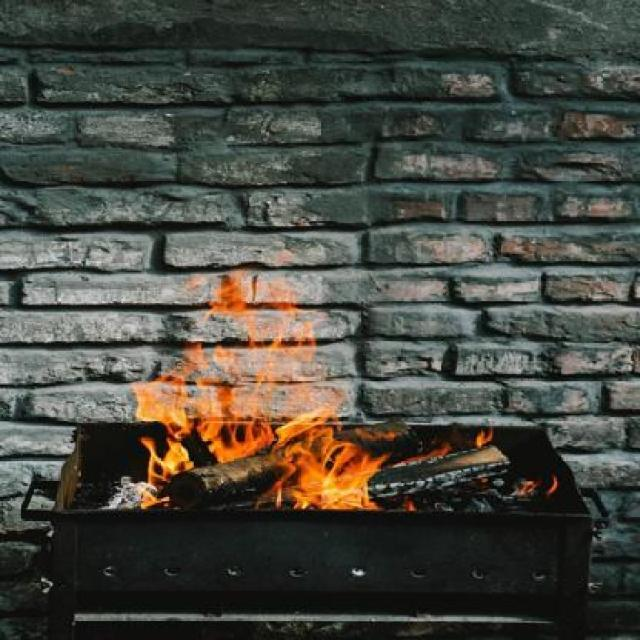Fire: (145, 264, 570, 520)
